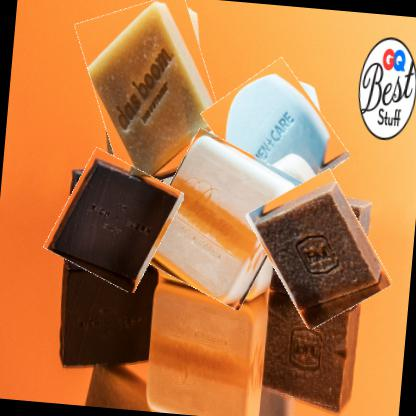soap: (75, 0, 233, 192), (141, 134, 298, 306), (252, 171, 388, 329), (206, 61, 344, 210), (49, 152, 179, 289)
